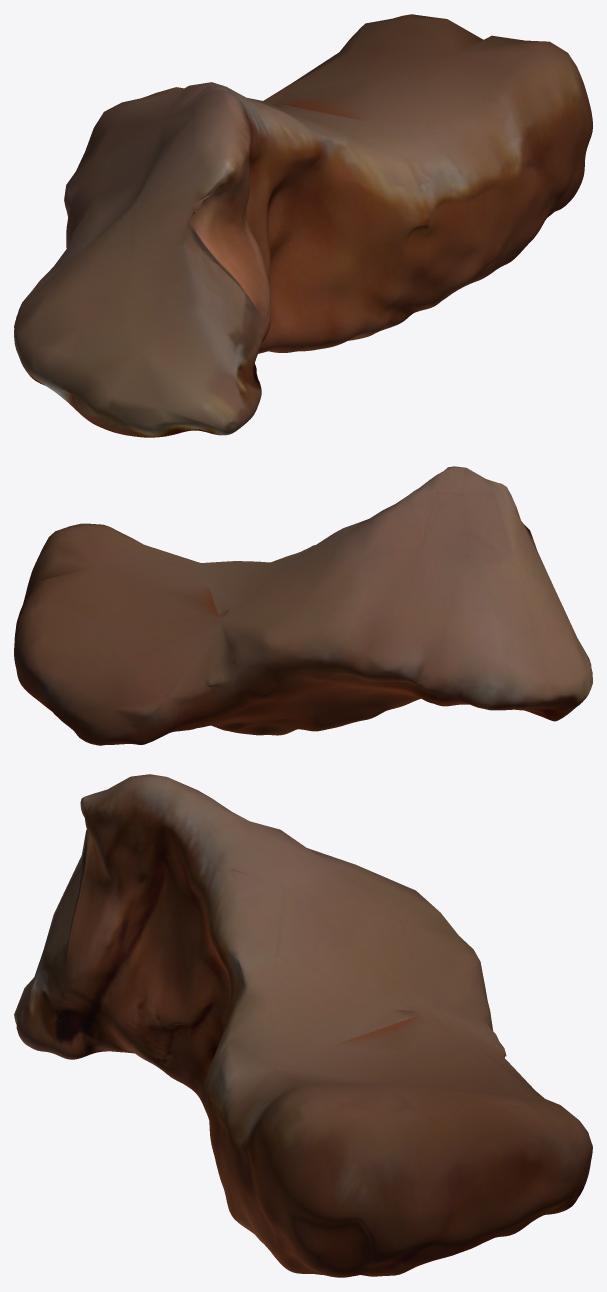
3 views of the same model, one above another, from view 1: azimuth 30°, elevation 25°; view 2: azimuth 150°, elevation 25°; view 3: azimuth 270°, elevation 25° (orthographic). The views are drawn at different scales.
Size of the model in its own units: 0.7111 by 0.3575 by 0.5334.
Materials: 1 (1 with a texture image).
